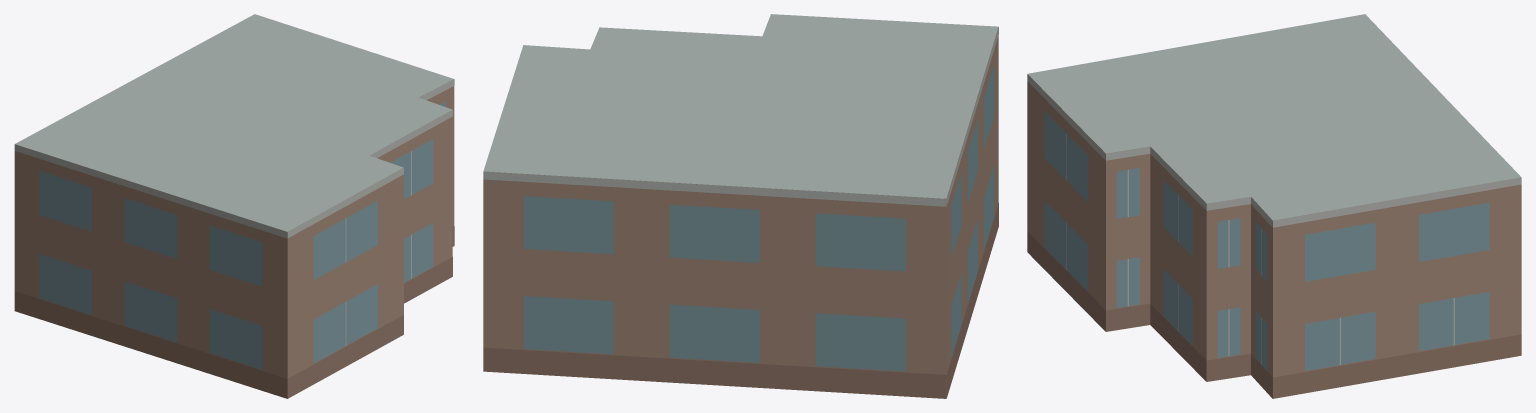
The model's file is survey-upis-32851318.glb.
The picture shows the model from 3 angles, left to right: view 1: azimuth 30°, elevation 25°; view 2: azimuth 150°, elevation 25°; view 3: azimuth 270°, elevation 25°; orthographic projection. The views are drawn at different scales.
Visible parts, largest first — view 1: survey-upis-32851318.tmp; view 2: survey-upis-32851318.tmp; view 3: survey-upis-32851318.tmp.
Boxes of the visible parts, bbox=[...] form: survey-upis-32851318.tmp: bbox=[14, 14, 454, 398]; survey-upis-32851318.tmp: bbox=[483, 14, 998, 398]; survey-upis-32851318.tmp: bbox=[1027, 14, 1521, 398].
Bounding box in the file's own units: 15.17 × 6.1 × 15.34.
